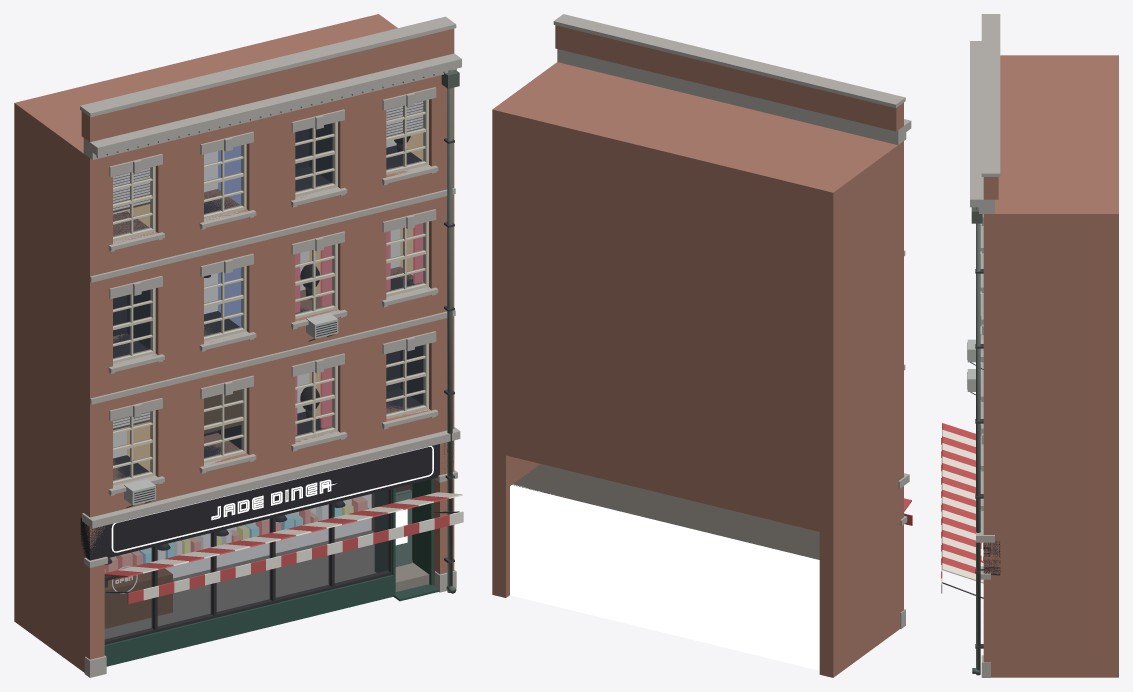
File: bldg_4.glb
3 renders of one model, left to right at view 1: azimuth 30°, elevation 25°; view 2: azimuth 150°, elevation 25°; view 3: azimuth 270°, elevation 25°, orthographic. The views are drawn at different scales.
Parts seen in each view (by area): view 1: bldg_4; view 2: bldg_4; view 3: bldg_4.
Part boxes in pixels (x1=…): bldg_4: x1=14, y1=14, x2=463, y2=677; bldg_4: x1=492, y1=14, x2=912, y2=677; bldg_4: x1=941, y1=14, x2=1118, y2=677.
Bounding box in the file's own units: 10.1 × 14.8 × 4.73.
